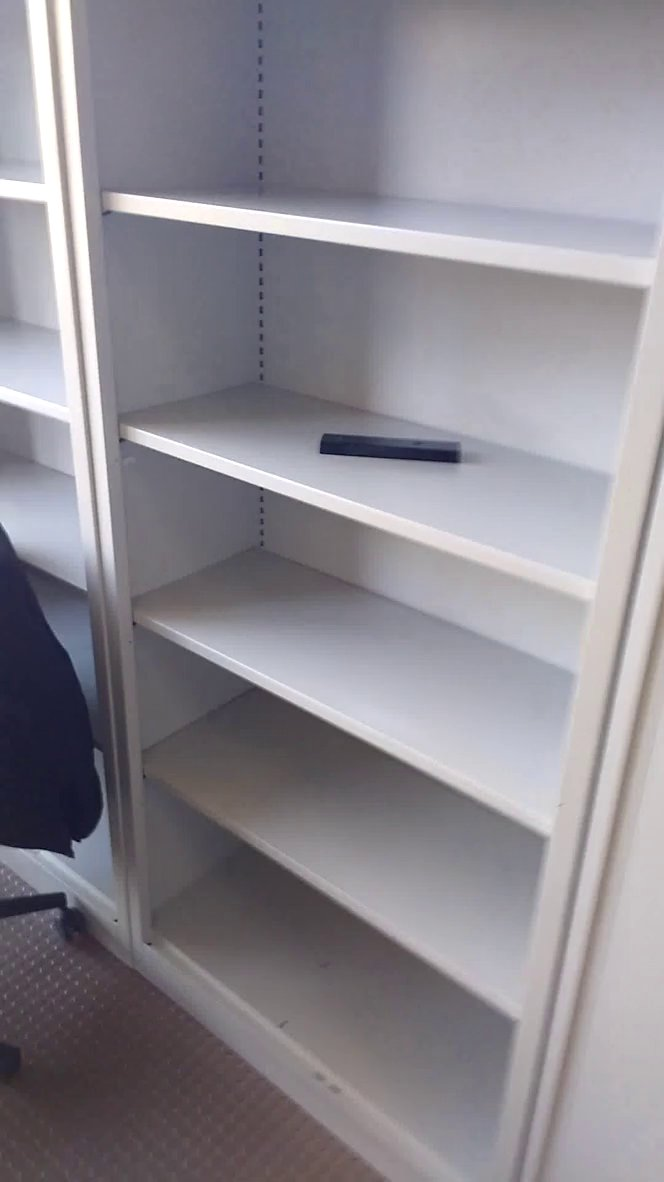remote: (308, 424, 484, 484)
